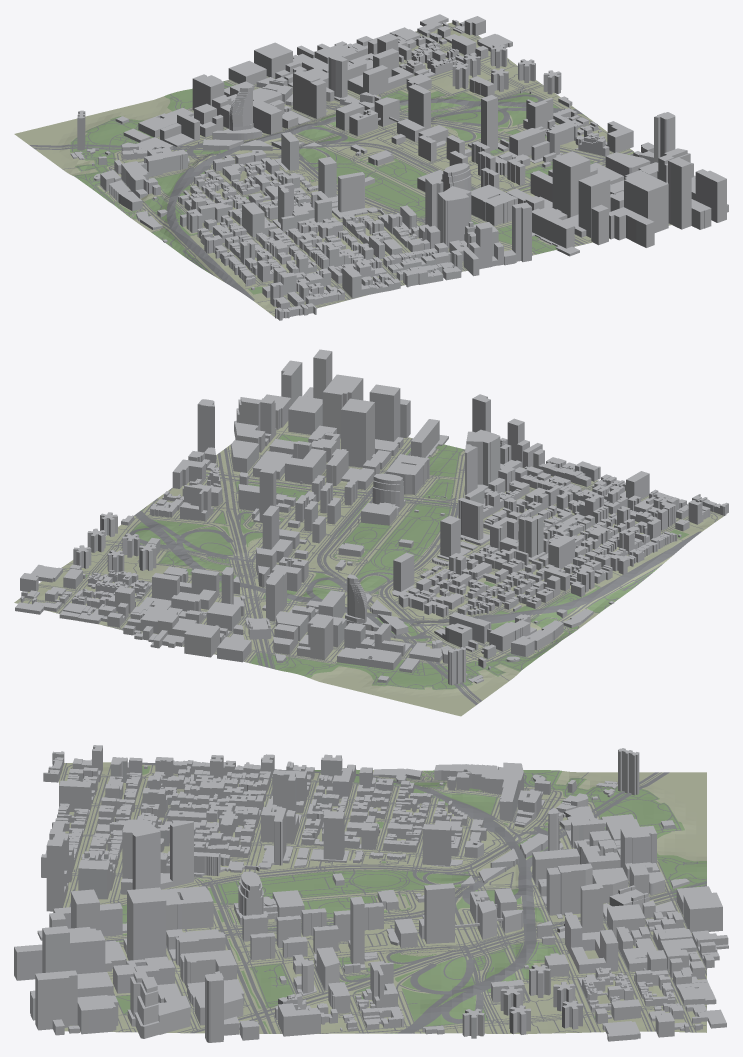
The model's file is urban_highway_mesh.glb.
3 renders of one model, top to bottom at view 1: azimuth 30°, elevation 25°; view 2: azimuth 150°, elevation 25°; view 3: azimuth 270°, elevation 25°, orthographic. The views are drawn at different scales.
Visible parts, largest first — view 1: urban_model; view 2: urban_model; view 3: urban_model.
Part boxes in pixels (<box>): urban_model: <box>14,14,728,320</box>; urban_model: <box>14,349,728,716</box>; urban_model: <box>14,745,728,1042</box>.
Bounding box in the file's own units: 1229 × 172 × 1345.
